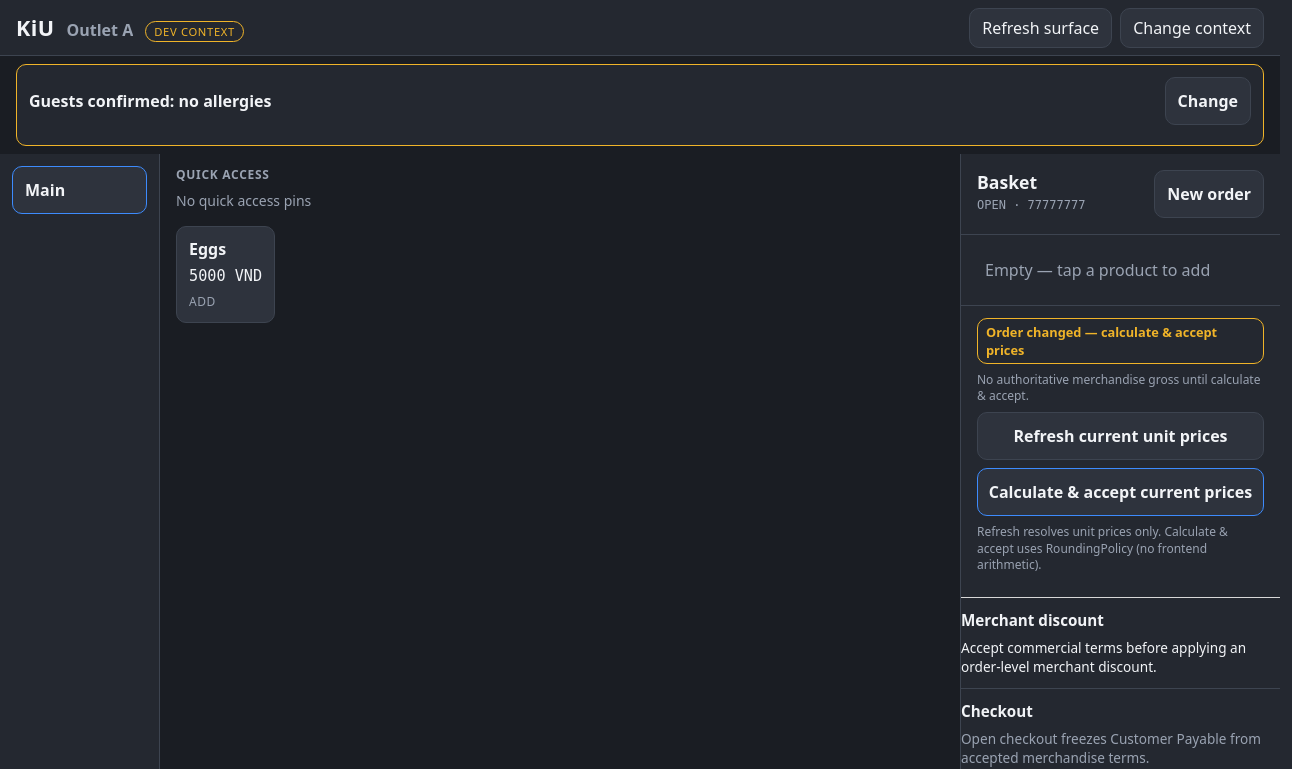
Scenario: CashierShell integration (mocked API) › loads surface, taps COUNT item, updates basket from server
Expected: the button "Main" is shown, [12,166,147,214]
Click the button with aria-label "Eggs,". click: (226, 274)
box: [176,226,275,323]
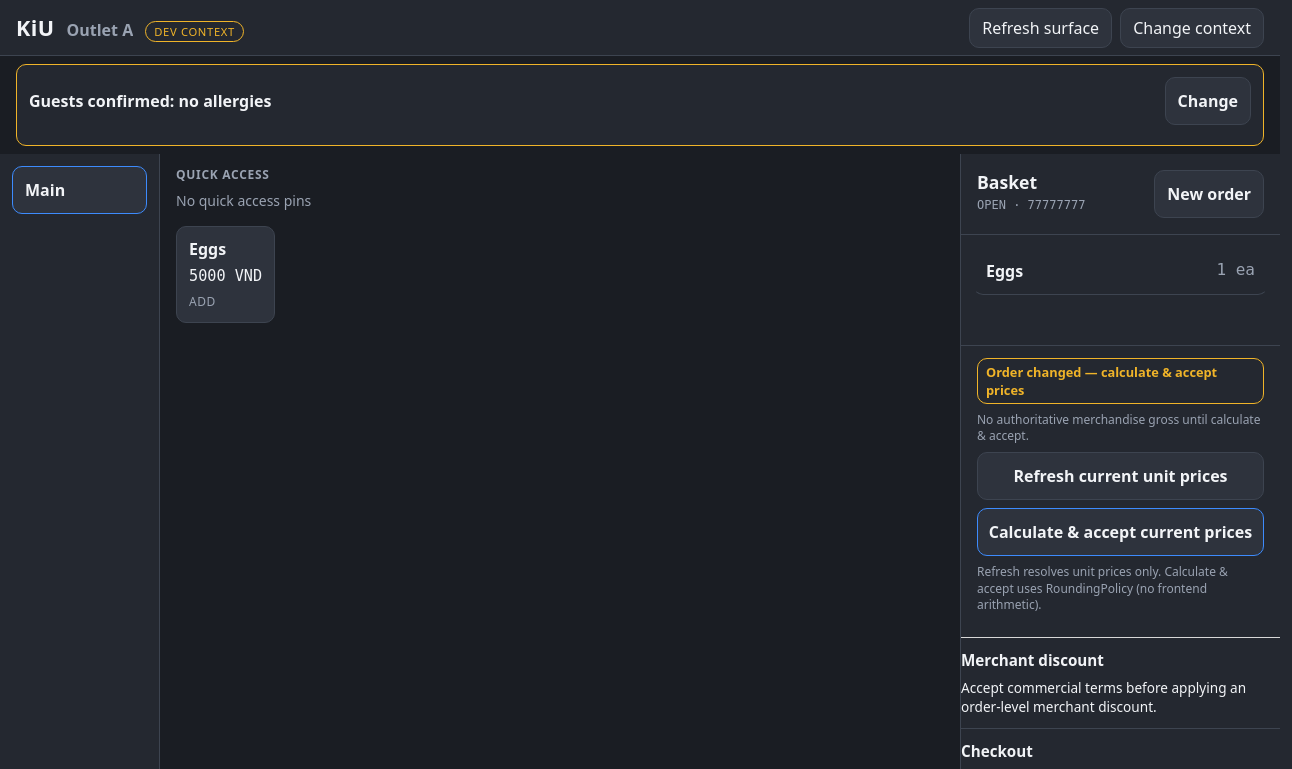
Expected: the text "1 ea" is shown, [1216,260,1255,279]
